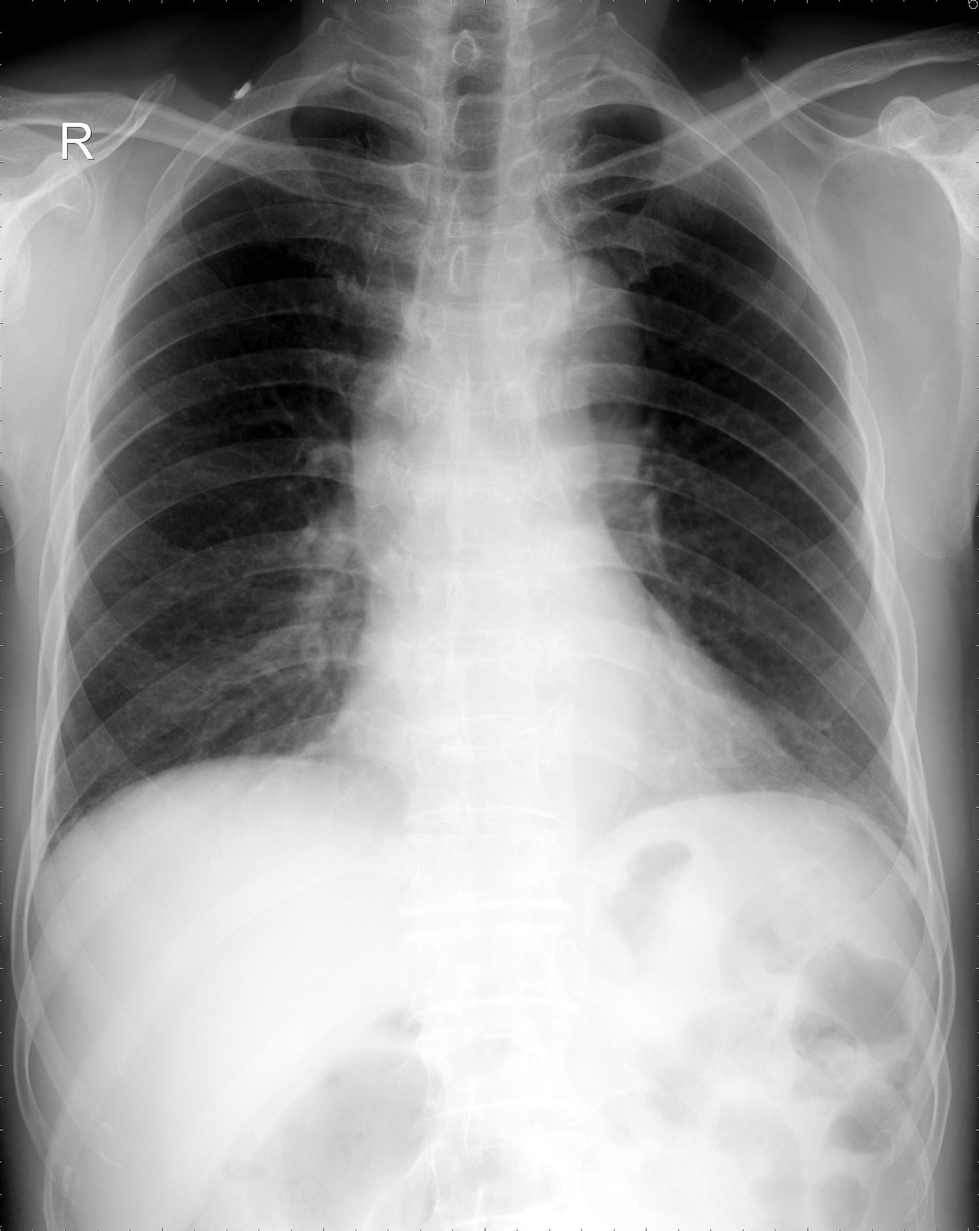Aortic enlargement: (480, 238, 647, 392)
Cardiomegaly: (338, 636, 799, 815)
Pleural thickening: (556, 98, 679, 130)
